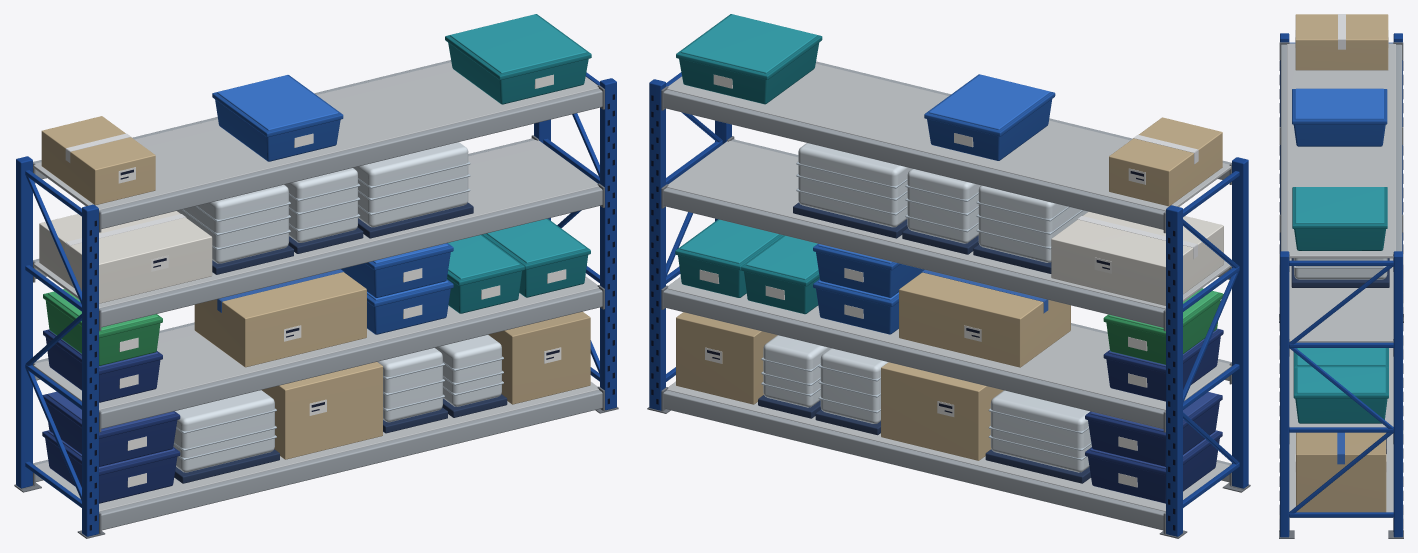
The model's file is rack_b.glb.
The picture shows the model from 3 angles, left to right: view 1: azimuth 30°, elevation 25°; view 2: azimuth 150°, elevation 25°; view 3: azimuth 270°, elevation 25°; orthographic projection. The views are drawn at different scales.
Parts seen in each view (by area): view 1: rack_b; view 2: rack_b; view 3: rack_b.
Part boxes in pixels (x1,y1,x2,y2): rack_b: (14, 14, 618, 538); rack_b: (647, 14, 1250, 538); rack_b: (1279, 14, 1403, 538).
Bounding box in the file's own units: 3.4 × 2.19 × 0.8.
